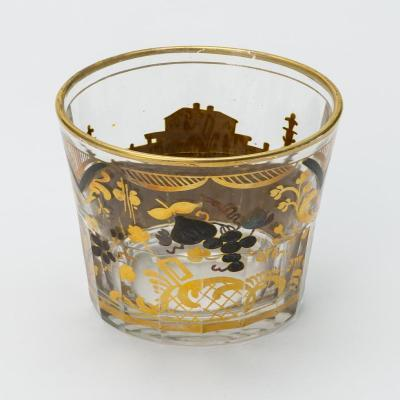dpi: (54, 46, 344, 349)
